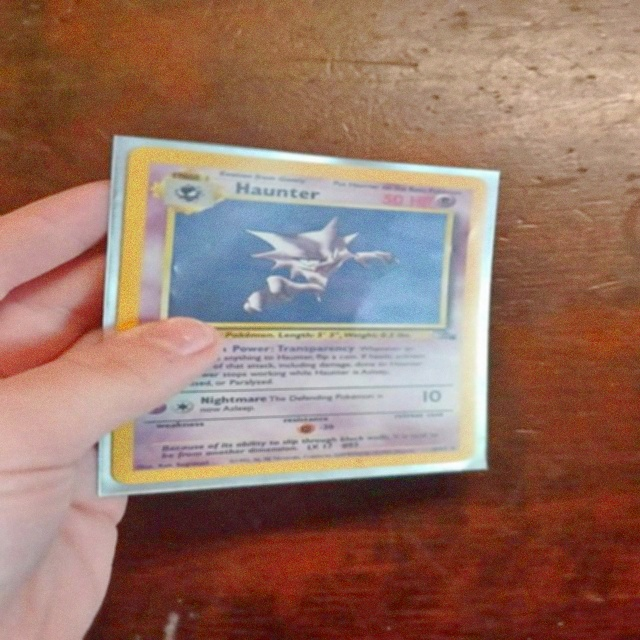card: (111, 146, 489, 485)
